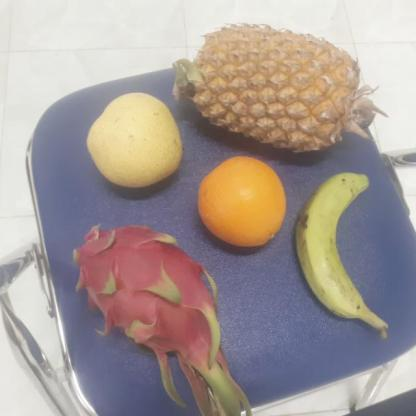banana: (290, 172, 378, 324)
guava: (82, 95, 183, 189)
pear: (195, 156, 288, 248)
pineapple: (180, 26, 356, 157)
pitaya: (69, 226, 225, 362)
